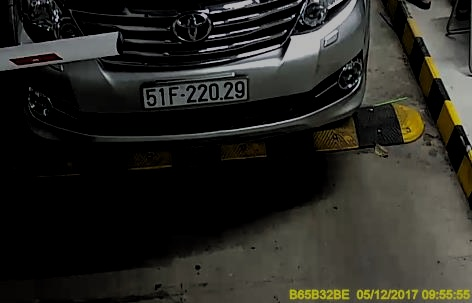plate: (138, 75, 246, 106)
